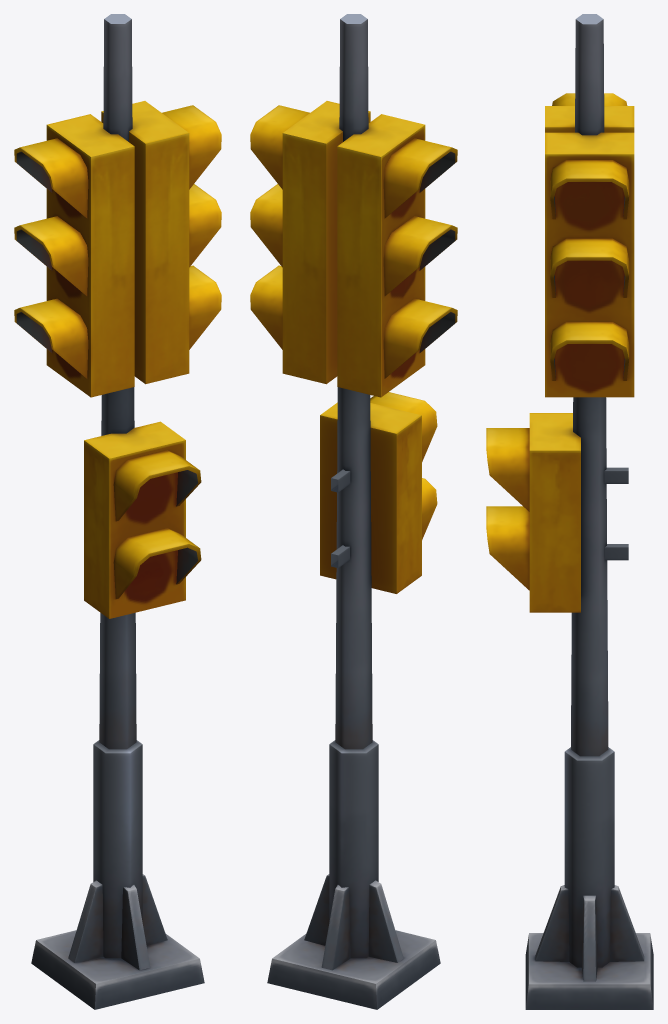
Rendered from Traffic_Light.FBX.
The picture shows the model from 3 angles, left to right: view 1: azimuth 30°, elevation 25°; view 2: azimuth 150°, elevation 25°; view 3: azimuth 270°, elevation 25°; orthographic projection.
Visible parts, largest first — view 1: Traffic_Light; view 2: Traffic_Light; view 3: Traffic_Light.
Boxes of the visible parts, x1,y1,x2,y2 form: Traffic_Light: (14, 14, 221, 1009); Traffic_Light: (250, 14, 457, 1009); Traffic_Light: (486, 14, 653, 1009).
Bounding box in the file's own units: 71.22 × 375 × 59.11.
